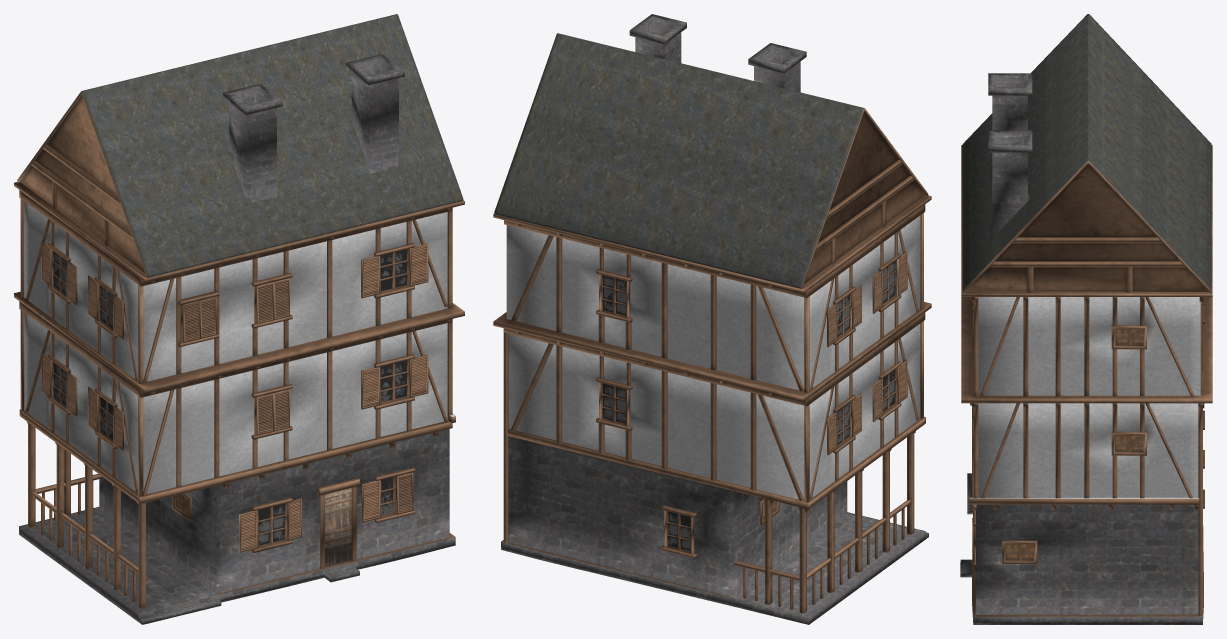
The model's file is house_03.glb.
The picture shows the model from 3 angles, left to right: view 1: azimuth 30°, elevation 25°; view 2: azimuth 150°, elevation 25°; view 3: azimuth 270°, elevation 25°; orthographic projection. The views are drawn at different scales.
Visible parts, largest first — view 1: Medieval_House_03; view 2: Medieval_House_03; view 3: Medieval_House_03.
Boxes of the visible parts, bbox=[...] form: Medieval_House_03: bbox=[14, 14, 464, 624]; Medieval_House_03: bbox=[493, 14, 931, 624]; Medieval_House_03: bbox=[960, 14, 1212, 624].
Size of the model in its own units: 878 by 1278 by 629.
Materials: 1 (1 with a texture image).
